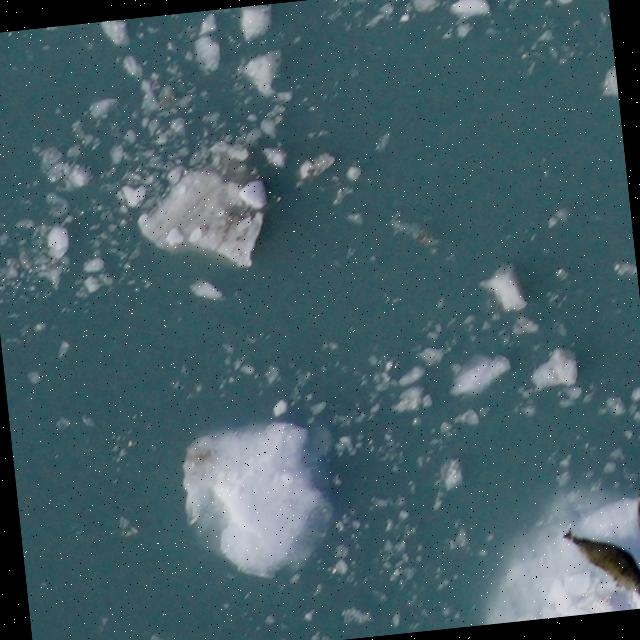seal: (559, 519, 640, 611), (630, 485, 640, 567)
